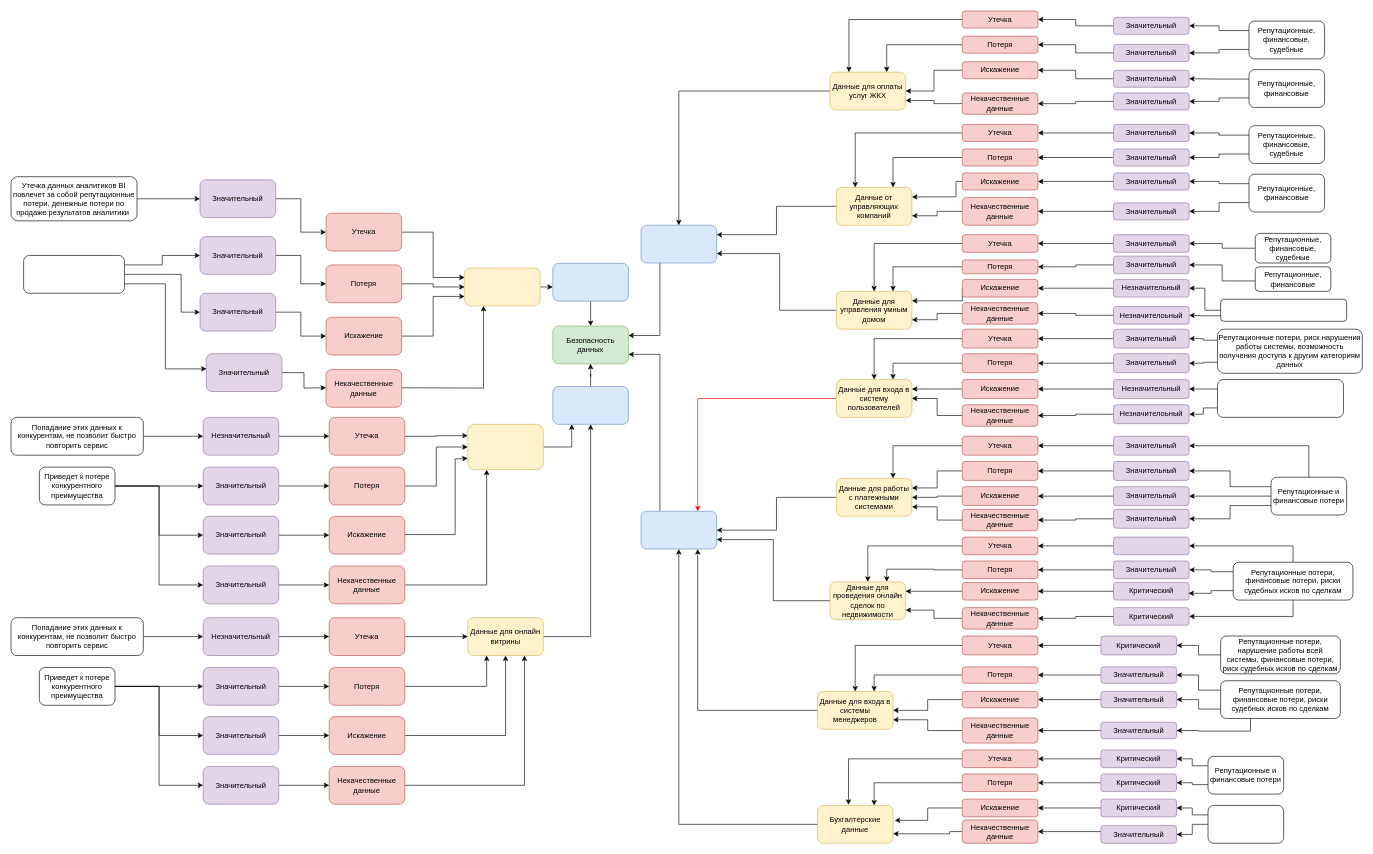
Image size: 1373x854. Some labels were removed from this diagram. Each missing label, with the centre of its shape:
"Внутренние данные" belongs at point (590, 282).
"Данные для аналитики BI" belongs at point (502, 286).
"Данные для проведения онлайн-тура" belongs at point (505, 447).
"Конфиденциальные данные" belongs at point (678, 244).
"Кратковременное нарушение обслуживания пользователей" belongs at point (1280, 398).
"Кратковременное нарушение пользовательских сценариев" belongs at point (1283, 310).
"Критичсеский" belongs at point (1151, 545).
"Потеря качества аналитики, репутационные и денежные потери от клиентов" belongs at point (73, 274).
"Публичные данные" belongs at point (590, 405).
"Репутационные потери, риск судебных исков" belongs at point (1245, 824).
"Секретные данные" belongs at point (678, 530).
